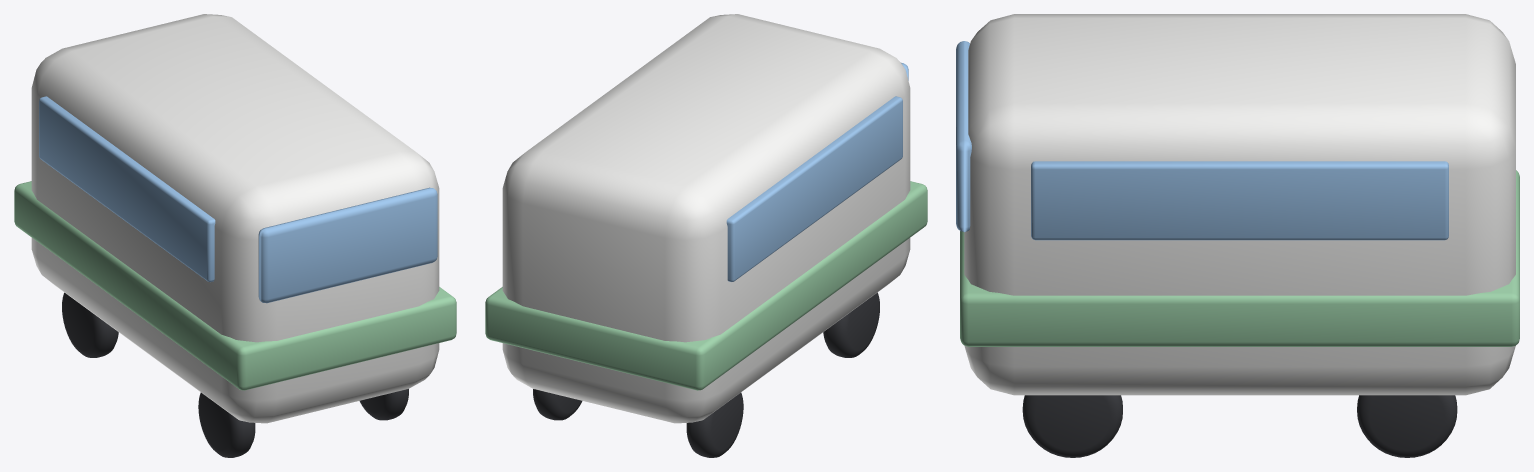
Rendered from products--tsuukin.glb.
3 views of the same model, side by side, from view 1: azimuth 30°, elevation 25°; view 2: azimuth 150°, elevation 25°; view 3: azimuth 270°, elevation 25° (orthographic). The views are drawn at different scales.
Visible parts, largest first — view 1: products--tsuukin; view 2: products--tsuukin; view 3: products--tsuukin.
Boxes of the visible parts, <box> form: products--tsuukin: <box>14,14,456,457</box>; products--tsuukin: <box>485,14,927,457</box>; products--tsuukin: <box>956,14,1519,457</box>.
Size of the model in its own units: 0.3799 by 0.46 by 0.6748.
